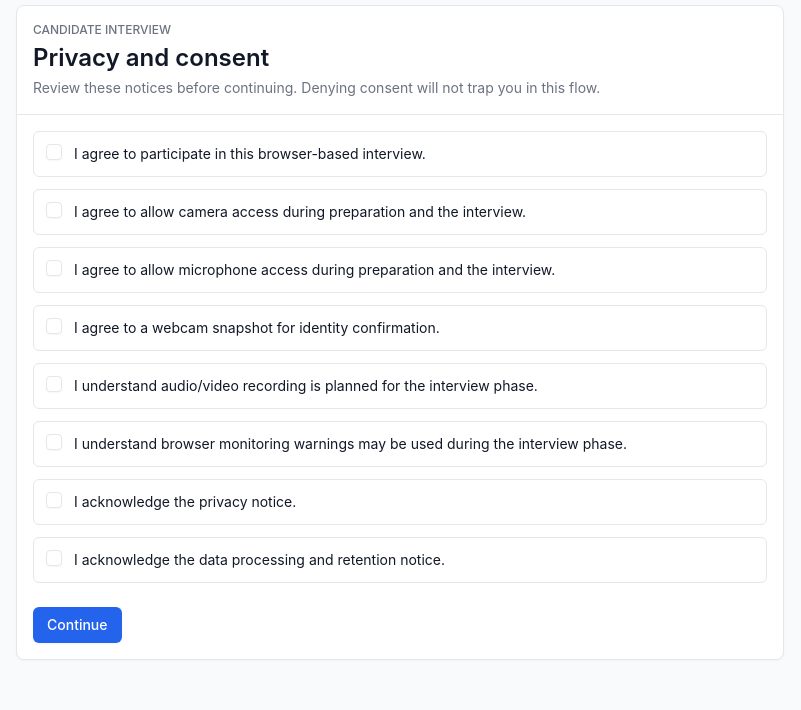
Test: candidate portal UI › does not allow consent submission until every versioned consent is checked
(page scrolled)
Click the button "Continue" at (77, 625), box [33,607,122,643]
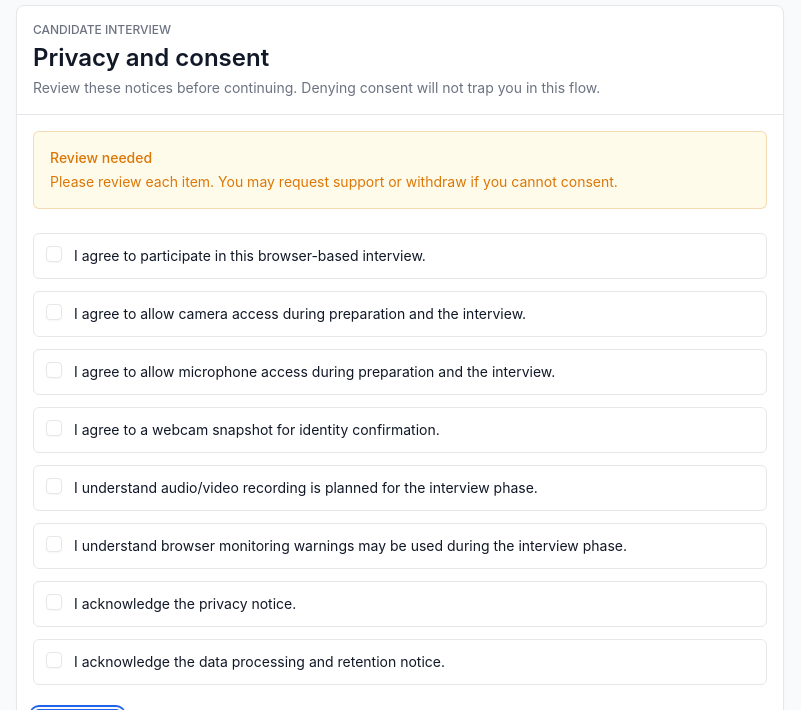
Expected: the message shows "Please review each item", [50,173,618,190]
